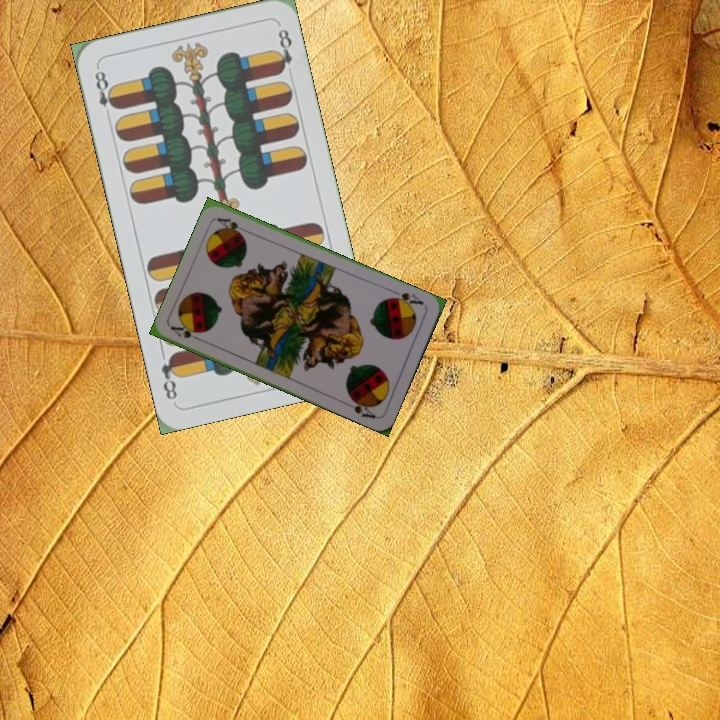E8: (90, 63, 120, 112)
SA: (386, 286, 426, 310), (167, 322, 206, 344)
